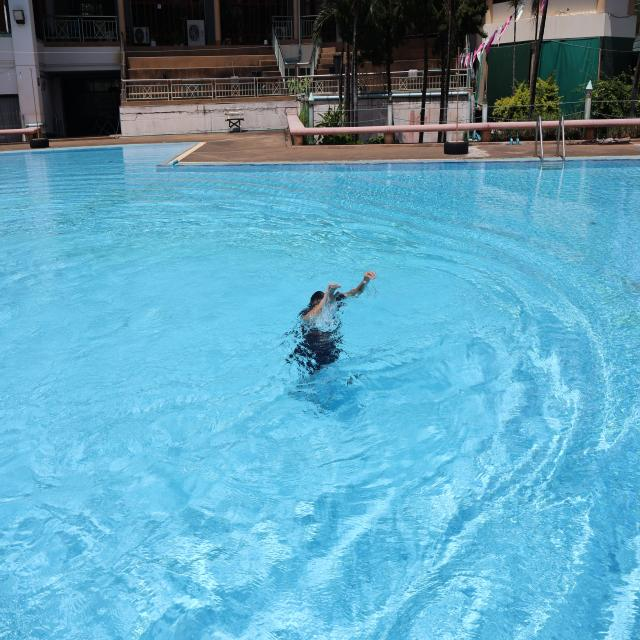Drowning: (280, 252, 390, 402)
